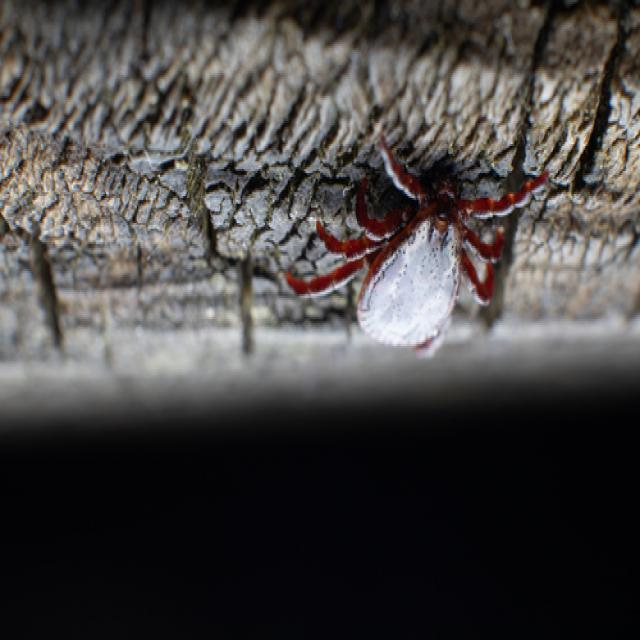Dermacentor Reticulatus-M: (283, 136, 548, 357)
